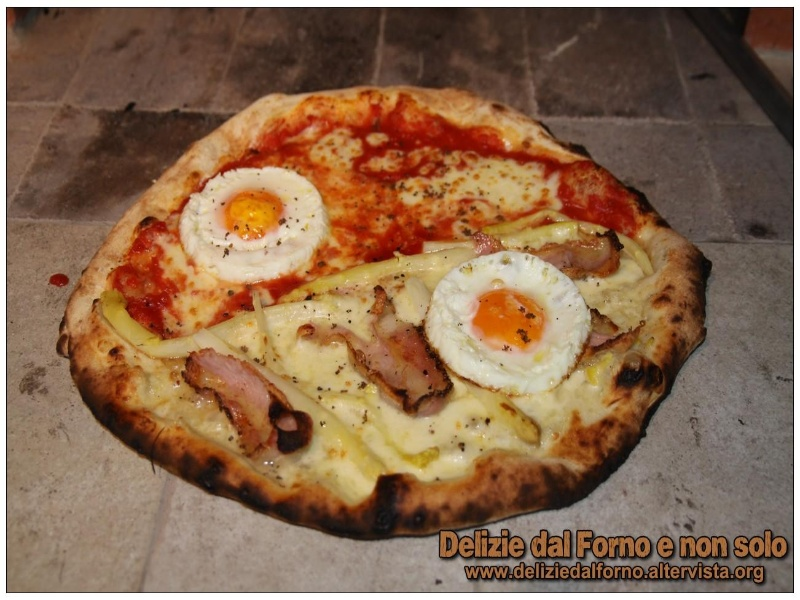oeuf: (193, 180, 308, 272), (466, 281, 555, 377)
